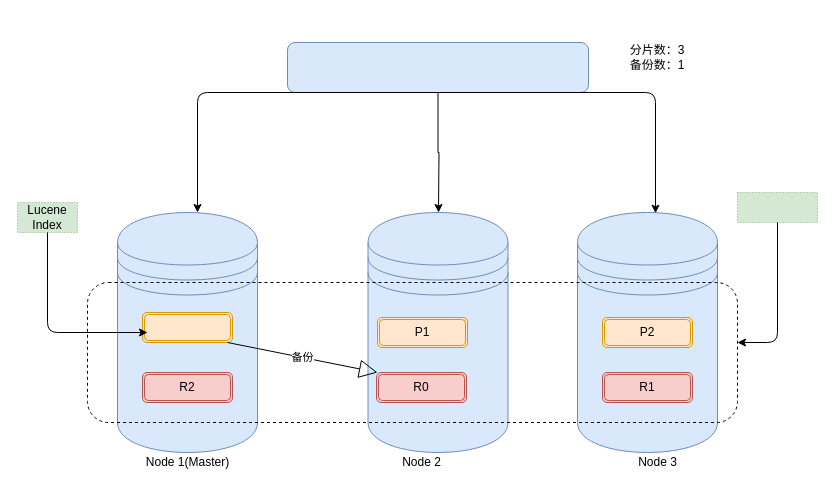
The diagram is 835 pixels wide and 489 high, and some of its shapes have lost their labels. Each missing label, with the centre of its shape:
Elasticsearch Cluster: the point at 437,67
Elasticsearch Index: the point at 777,207
P0: the point at 187,327
